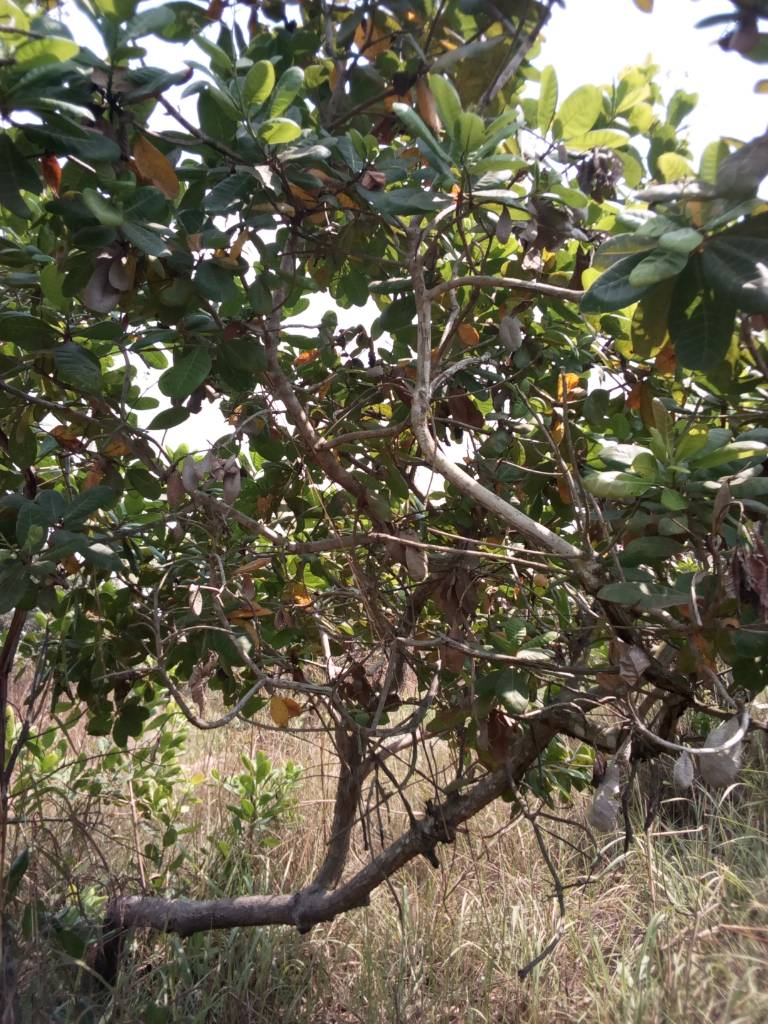Dessèchement des bourgeons: (533, 188, 575, 252), (584, 149, 614, 195)
